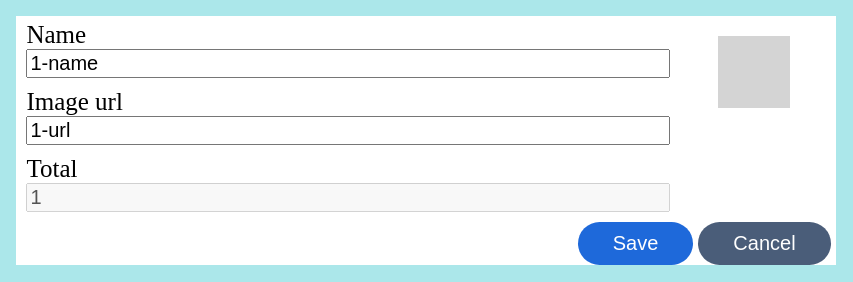
Scenario: EditForm › disables saves button when url is empty
This screenshot has width=853, height=282.
Clear the field named "Url of the card" at (348, 130), box [26, 116, 670, 145]
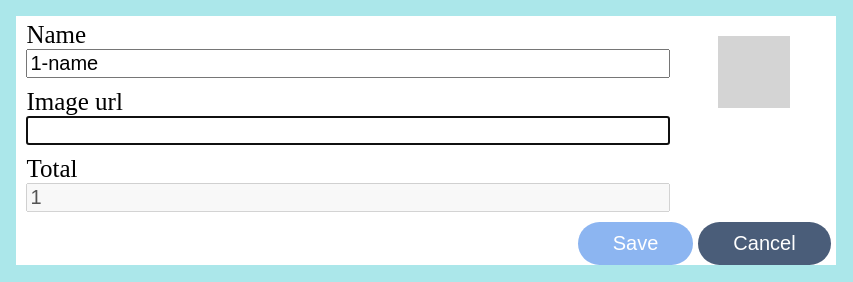
Expected: the button "Save" is disabled, [578, 222, 693, 265]
